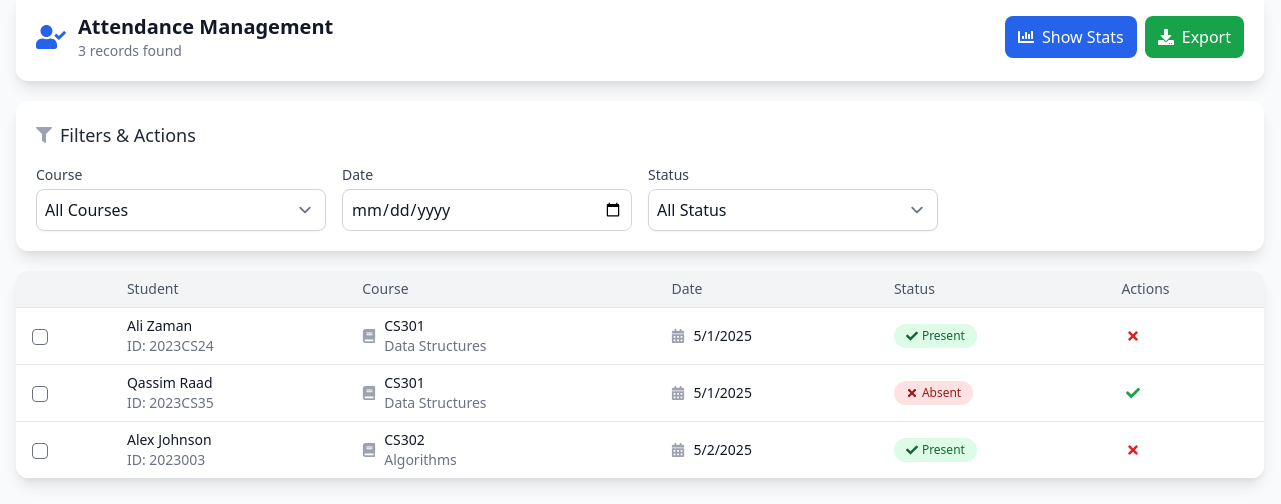
AttendanceList › toggles status via row action
Click the button named "Mark as present" in the row of "Ali Zaman".
click(1133, 336)  # box x1=1121 y1=324 x2=1145 y2=348
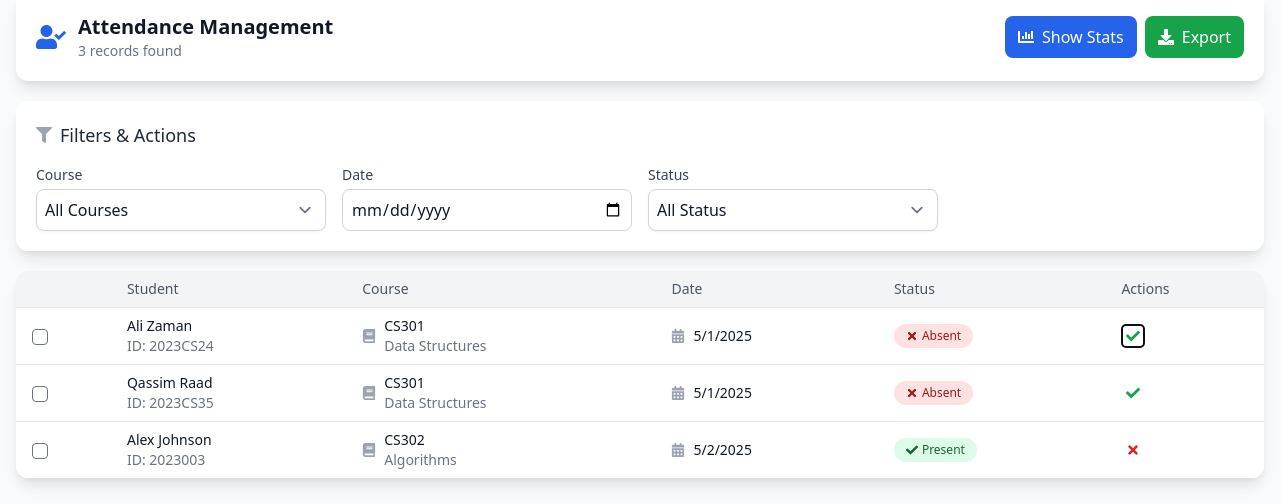
Expected: the text "Absent" in the row of "Ali Zaman" is shown, x1=922 y1=327 x2=961 y2=344
